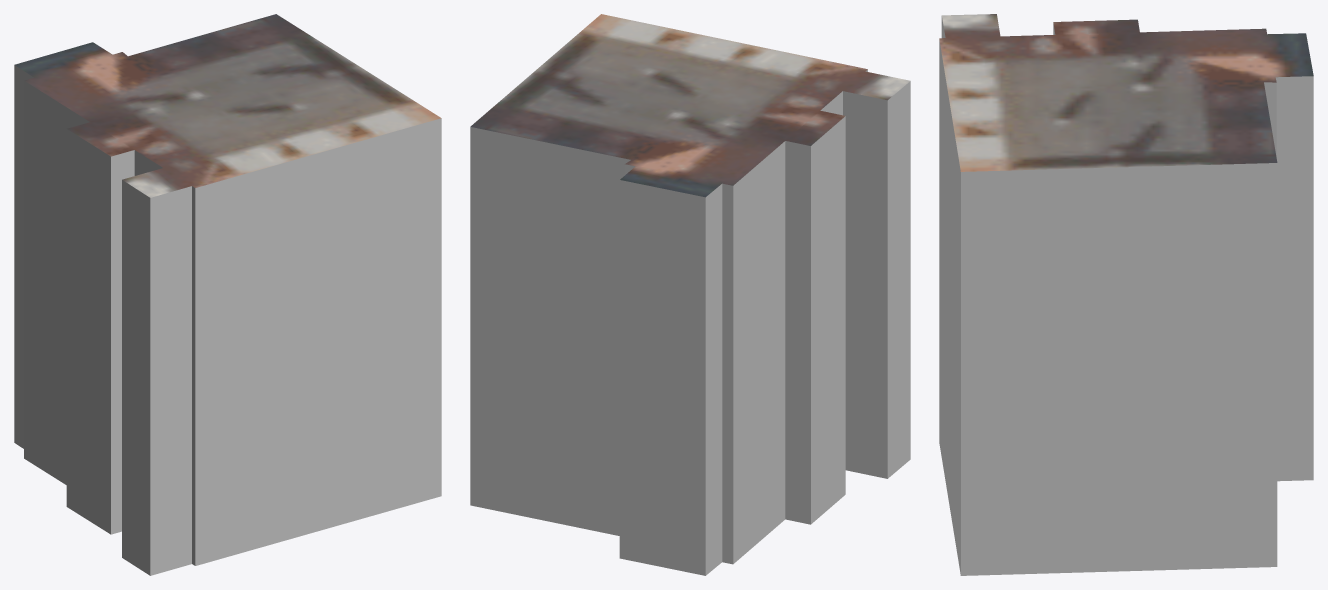
Rendered from DEBW_0010007Tx8g.gltf.
3 renders of one model, left to right at view 1: azimuth 30°, elevation 25°; view 2: azimuth 150°, elevation 25°; view 3: azimuth 270°, elevation 25°, orthographic. The views are drawn at different scales.
Visible parts, largest first — view 1: Z_UP; view 2: Z_UP; view 3: Z_UP.
Part boxes in pixels (x1=…): Z_UP: x1=14, y1=14, x2=441, y2=575; Z_UP: x1=470, y1=14, x2=910, y2=575; Z_UP: x1=939, y1=14, x2=1313, y2=575.
Bounding box in the file's own units: 14.71 × 17.55 × 14.74.
Materials: 2 (1 with a texture image).
